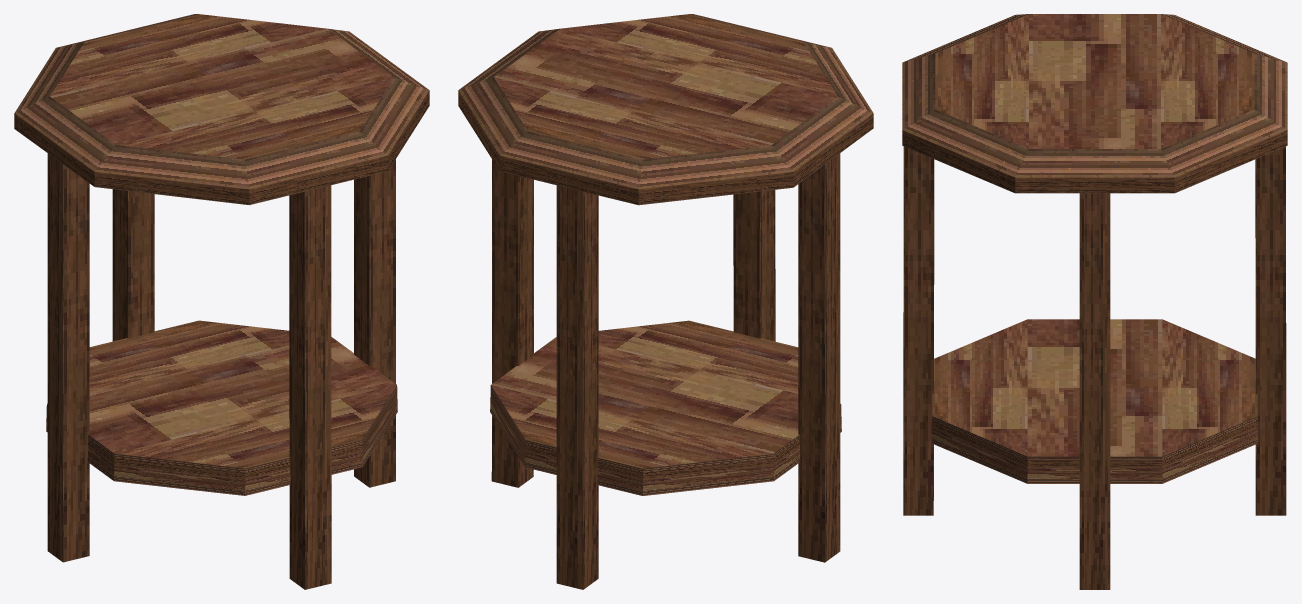
Rendered from slum_octagon_03.fbx.
The picture shows the model from 3 angles, left to right: view 1: azimuth 30°, elevation 25°; view 2: azimuth 150°, elevation 25°; view 3: azimuth 270°, elevation 25°; orthographic projection.
Visible parts, largest first — view 1: mesh_0; view 2: mesh_0; view 3: mesh_0.
Boxes of the visible parts, bbox=[...] form: mesh_0: bbox=[14, 14, 429, 589]; mesh_0: bbox=[458, 14, 873, 589]; mesh_0: bbox=[902, 14, 1287, 589].
Size of the model in its own units: 46.19 by 56.57 by 46.19.
1 material, 1 textured.
